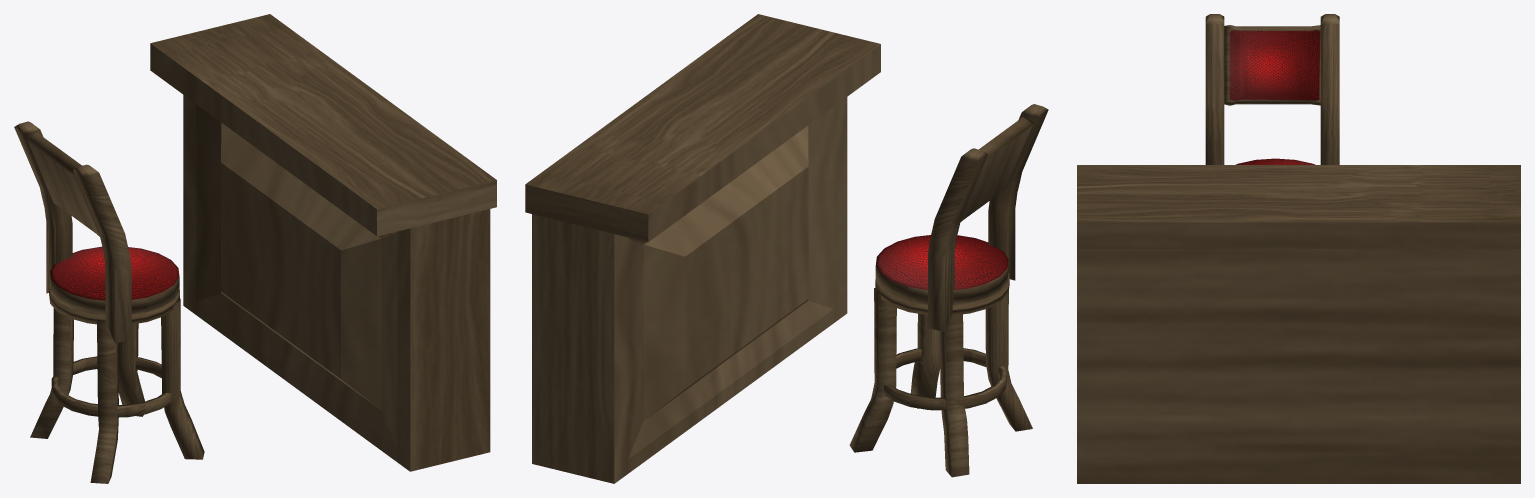
The model's file is Bar_and_Chair.fbx.
The picture shows the model from 3 angles, left to right: view 1: azimuth 30°, elevation 25°; view 2: azimuth 150°, elevation 25°; view 3: azimuth 270°, elevation 25°; orthographic projection. The views are drawn at different scales.
Parts seen in each view (by area): view 1: pCylinder3; view 2: pCylinder3; view 3: pCylinder3.
Part boxes in pixels (x1=…): pCylinder3: x1=14, y1=14, x2=496, y2=483; pCylinder3: x1=525, y1=14, x2=1048, y2=483; pCylinder3: x1=1077, y1=14, x2=1520, y2=483.
Size of the model in its own units: 93.49 by 80.8 by 105.
